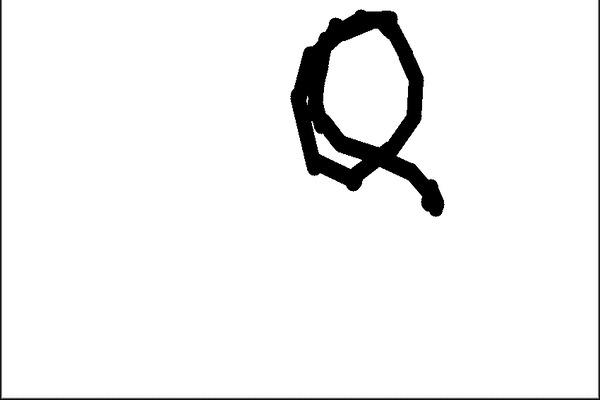Q: (284, 5, 439, 225)
